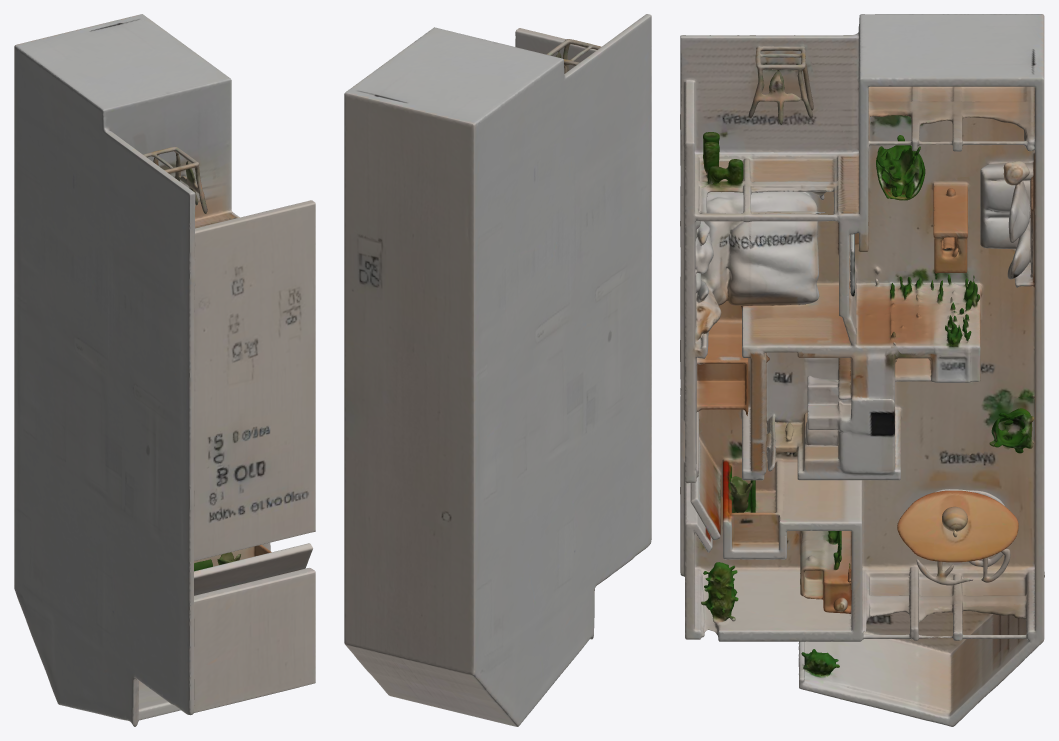
The model's file is tripo-model-c3a850de-8fc1-4199-896d-a8330549d56f.glb.
The picture shows the model from 3 angles, left to right: view 1: azimuth 30°, elevation 25°; view 2: azimuth 150°, elevation 25°; view 3: azimuth 270°, elevation 25°; orthographic projection. The views are drawn at different scales.
Parts seen in each view (by area): view 1: tripo_node_c3a850de-8fc1-4199-896d-a8330549d56f; view 2: tripo_node_c3a850de-8fc1-4199-896d-a8330549d56f; view 3: tripo_node_c3a850de-8fc1-4199-896d-a8330549d56f.
Part boxes in pixels (box(x1,y1,x2,y2)): tripo_node_c3a850de-8fc1-4199-896d-a8330549d56f: box(14, 14, 315, 726); tripo_node_c3a850de-8fc1-4199-896d-a8330549d56f: box(344, 14, 651, 726); tripo_node_c3a850de-8fc1-4199-896d-a8330549d56f: box(680, 14, 1044, 726).
Bounding box in the file's own units: 0.2232 × 1 × 0.5094.
Materials: 1 (1 with a texture image).
